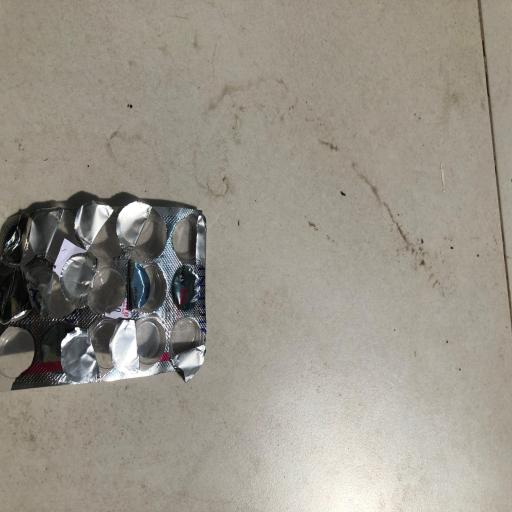waste: (0, 183, 211, 401)
